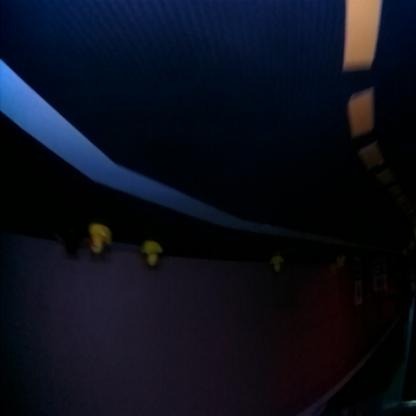Duckie: (89, 224, 113, 254), (142, 241, 164, 267), (270, 258, 284, 272), (338, 256, 346, 268)
